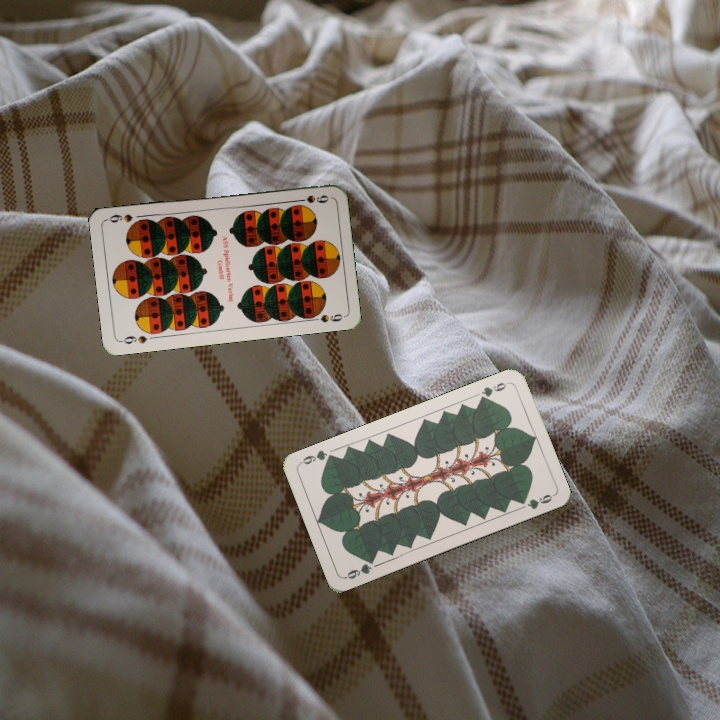G9: (341, 554, 377, 581), (475, 378, 511, 404)
S9: (291, 191, 331, 206), (117, 331, 150, 346)
